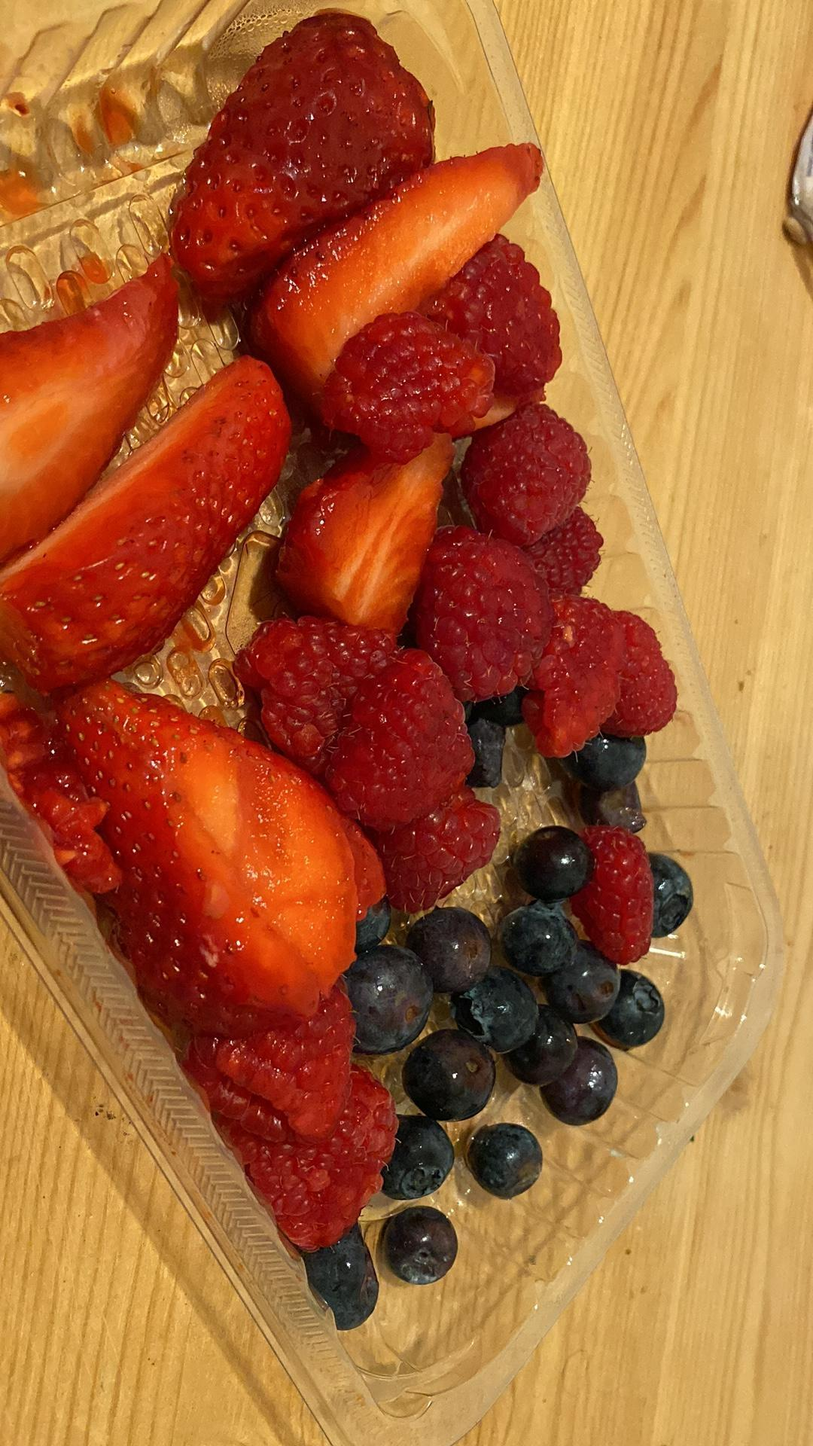blueberry: (274, 1220, 392, 1327), (317, 941, 431, 1046), (537, 692, 654, 787), (526, 928, 626, 1021), (411, 1022, 501, 1124), (360, 1115, 458, 1203), (451, 958, 538, 1056), (406, 898, 493, 992), (488, 890, 585, 970), (368, 1206, 459, 1284), (542, 1048, 627, 1129), (589, 969, 671, 1052), (506, 991, 578, 1082), (520, 814, 588, 903), (467, 1123, 541, 1201), (444, 720, 515, 787)
raspberry: (218, 1049, 419, 1263), (186, 984, 389, 1137), (324, 648, 492, 823), (414, 505, 567, 691), (316, 299, 482, 464), (419, 221, 562, 399), (233, 605, 389, 748), (474, 384, 595, 545), (519, 600, 632, 748), (570, 605, 693, 735), (567, 823, 667, 972)
strawberry: (20, 678, 402, 994), (0, 369, 288, 703), (181, 0, 446, 291), (253, 130, 560, 377), (0, 243, 193, 565), (279, 407, 461, 650)
